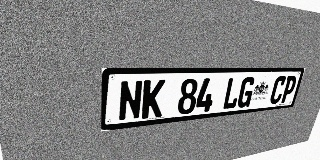4: (195, 78, 217, 113)
8: (177, 78, 200, 115)
C: (268, 76, 287, 105)
G: (236, 77, 256, 108)
K: (141, 79, 166, 119)
L: (221, 77, 243, 110)
N: (118, 80, 143, 121)
P: (279, 76, 298, 103)
